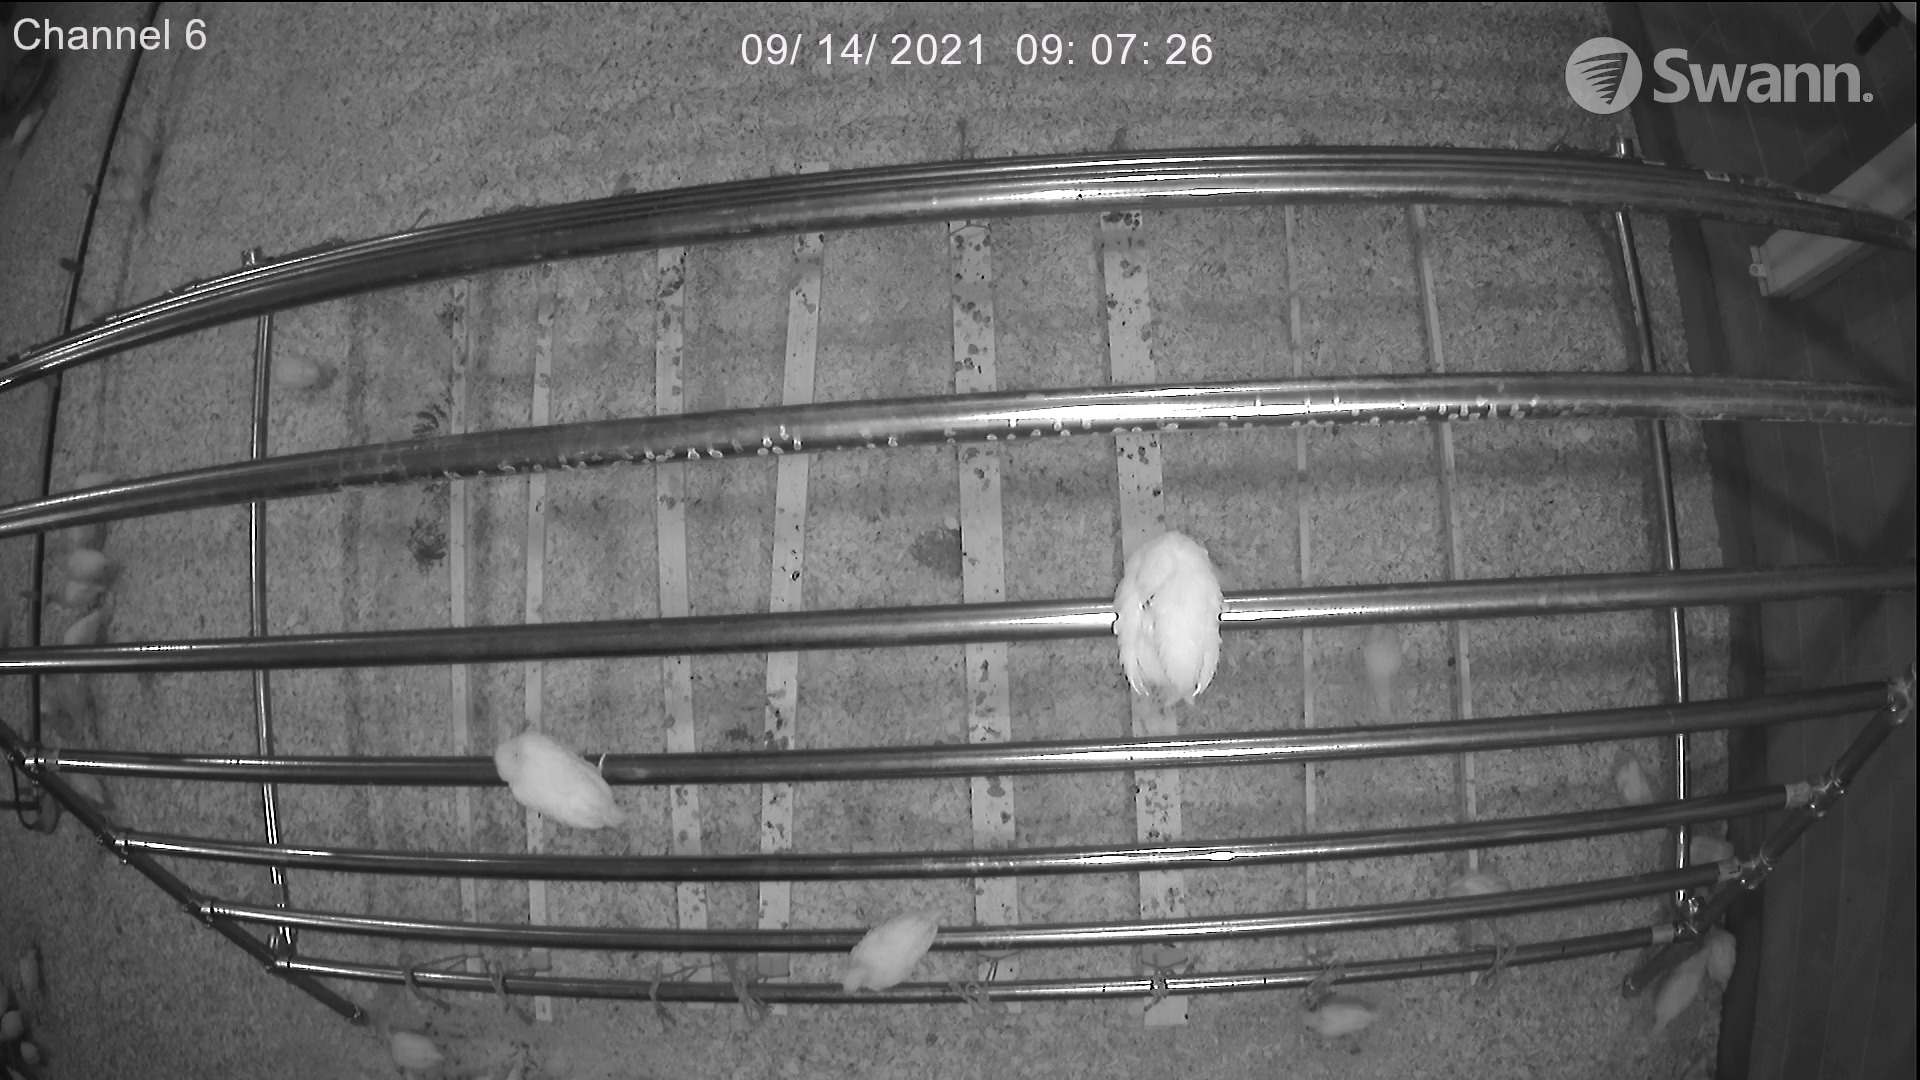Perching: (454, 699, 651, 841), (1112, 506, 1226, 732), (808, 905, 952, 996)
